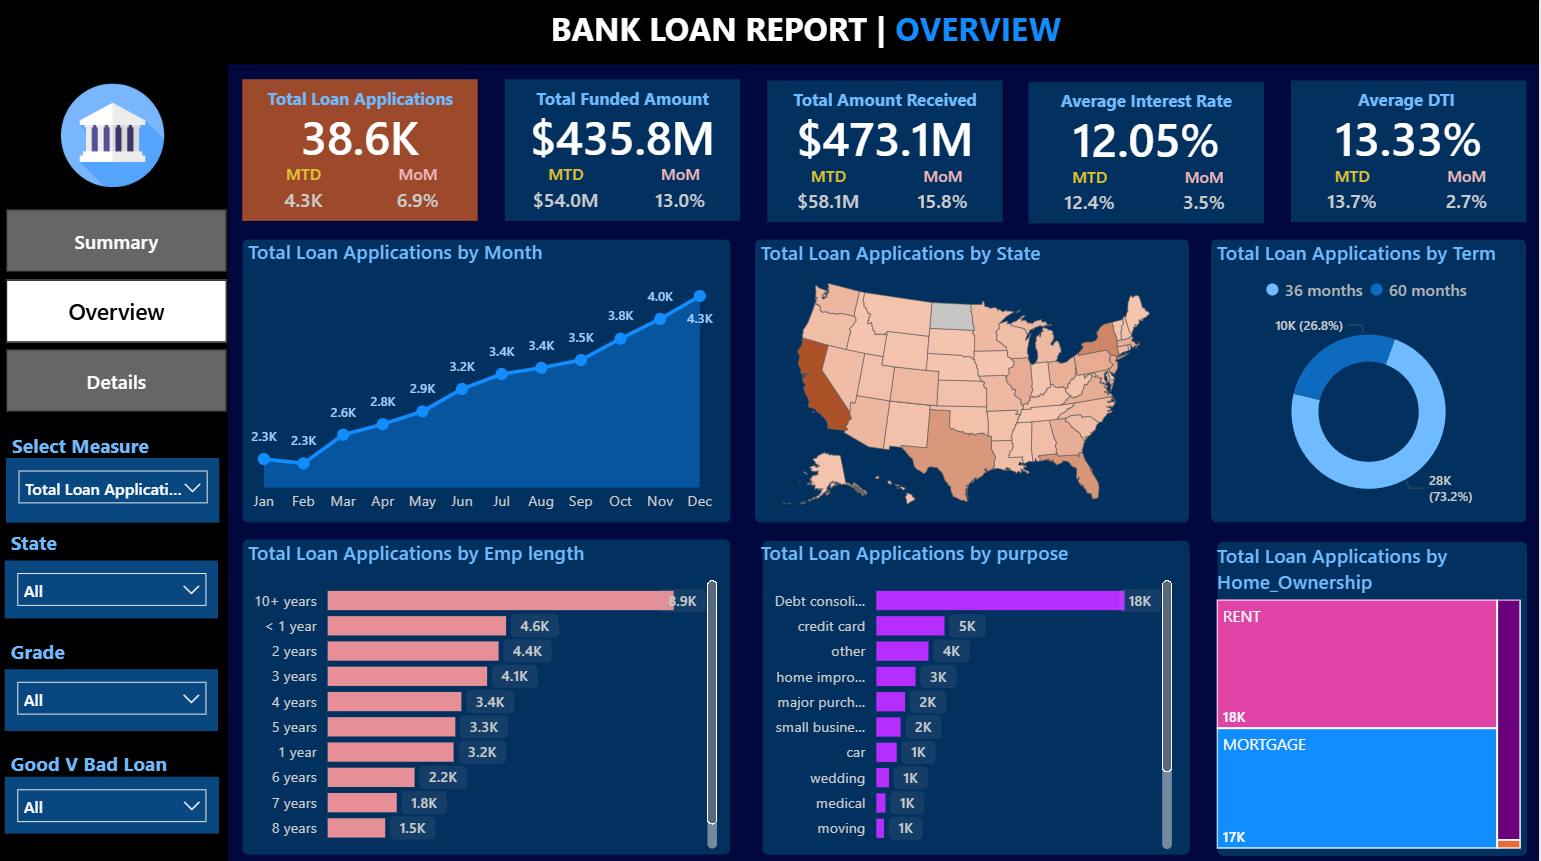

What the dashboard file says about the page in this screenshot:
{"tool":"powerbi","page":{"name":"Overview","canvas":[1280,720],"ordinal":1},"visuals":[{"type":"shape","box":[0,0,1280.3,55],"z":0},{"type":"shape","box":[204.7,67.4,195.3,117.4],"z":0,"group":"g2"},{"type":"shape","box":[422,67.4,195.3,117.4],"z":0,"group":"g3"},{"type":"shape","box":[639.3,68.2,195.3,117.4],"z":0,"group":"g4"},{"type":"shape","box":[1073.3,68.2,195.3,117.4],"z":0,"group":"g6"},{"type":"shape","box":[856.3,69.4,195.3,117.4],"z":0,"group":"g5"},{"type":"card","fields":{"Values":["bank_loan_data.Total Loan Applications"]},"box":[204.7,91.8,195.3,45.3],"z":1000,"group":"g2"},{"type":"card","fields":{"Values":["bank_loan_data.Total Funded Amount"]},"box":[422,91.8,195.3,45.3],"z":1000,"group":"g3"},{"type":"card","fields":{"Values":["bank_loan_data.Total Received Amount"]},"box":[639.3,92.6,195.3,45.3],"z":1000,"group":"g4"},{"type":"card","fields":{"Values":["bank_loan_data.Average DTI Rate"]},"box":[1073.3,92.6,195.3,45.3],"z":1000,"group":"g6"},{"type":"card","fields":{"Values":["bank_loan_data.Avg Interest Rate"]},"box":[856.3,93.8,195.3,45.3],"z":1000,"group":"g5"},{"type":"group","id":"g1","title":"Group 2","box":[204.3,199.9,405,235],"z":1000},{"type":"shape","box":[0,54.9,192,665.5],"z":2000,"group":"g12"},{"type":"textbox","box":[204.7,68.6,195.3,32.6],"z":2000,"group":"g2"},{"type":"textbox","box":[422,68.6,195.3,32.6],"z":2000,"group":"g3"},{"type":"textbox","box":[639.3,69.4,195.3,32.6],"z":2000,"group":"g4"},{"type":"textbox","box":[1073.3,69.4,195.3,32.6],"z":2000,"group":"g6"},{"type":"textbox","box":[856.3,70.6,195.3,32.6],"z":2000,"group":"g5"},{"type":"textbox","box":[454.7,2.3,444.2,52.3],"z":3000},{"type":"card","title":"MTD","fields":{"Values":["bank_loan_data.MTD Loan Applications"]},"box":[221,137.2,68.6,47.7],"z":3000,"group":"g2"},{"type":"card","title":"MTD","fields":{"Values":["bank_loan_data.MTD Total Funded Amount"]},"box":[438.3,137.2,68.6,47.7],"z":3000,"group":"g3"},{"type":"card","title":"MTD","fields":{"Values":["bank_loan_data.MTD Received Amount"]},"box":[655.6,138,68.6,47.7],"z":3000,"group":"g4"},{"type":"card","title":"MTD","fields":{"Values":["bank_loan_data.MTD DTI Rate"]},"box":[1089.6,138,68.6,47.7],"z":3000,"group":"g6"},{"type":"card","title":"MTD","fields":{"Values":["bank_loan_data.MTD Interest Rate"]},"box":[872.6,139.2,68.6,47.7],"z":3000,"group":"g5"},{"type":"shape","box":[204.3,199.9,405,235],"z":3000,"group":"g1"},{"type":"shape","box":[629.1,200,360,235],"z":3000,"group":"g7"},{"type":"shape","box":[1007,200,261.6,234.9],"z":3000,"group":"g8"},{"type":"shape","box":[204.7,448.8,404.7,261.6],"z":3000,"group":"g9"},{"type":"shape","box":[634.9,450,354.7,260.5],"z":3000,"group":"g10"},{"type":"shape","box":[1012.5,451.4,257,260.5],"z":3000,"group":"g11"},{"type":"group","id":"g2","title":"Group 1","box":[204.7,67.4,195.3,117.4],"z":4000},{"type":"card","title":"MoM","fields":{"Values":["bank_loan_data.MoM Loan Applications"]},"box":[315.2,137.2,69.8,47.7],"z":4000,"group":"g2"},{"type":"card","title":"MoM","fields":{"Values":["bank_loan_data.MoM Funded Amount"]},"box":[532.5,137.2,69.8,47.7],"z":4000,"group":"g3"},{"type":"card","title":"MoM","fields":{"Values":["bank_loan_data.MoM Received Amount"]},"box":[749.8,138,69.8,47.7],"z":4000,"group":"g4"},{"type":"card","title":"MoM","fields":{"Values":["bank_loan_data.MoM DTI Rate"]},"box":[1183.8,138,69.8,47.7],"z":4000,"group":"g6"},{"type":"card","title":"MoM","fields":{"Values":["bank_loan_data.MoM Interest Rate"]},"box":[966.8,139.2,69.8,47.7],"z":4000,"group":"g5"},{"type":"group","id":"g3","title":"Group 1","box":[422,67.4,195.3,117.4],"z":5000},{"type":"group","id":"g4","title":"Group 1","box":[639.3,68.2,195,117.3],"z":6000},{"type":"group","id":"g5","title":"Group 1","box":[856.3,69.4,195,117.3],"z":7000},{"type":"group","id":"g6","title":"Group 1","box":[1073.3,68.2,195,117.3],"z":8000},{"type":"slicer","title":"State","fields":{"Values":["bank_loan_data.address_state"]},"box":[7.5,466.8,177.1,47.9],"z":9000,"group":"g12"},{"type":"textbox","box":[7,435.6,89.3,31.3],"z":10000,"group":"g12"},{"type":"slicer","title":"State","fields":{"Values":["bank_loan_data.grade"]},"box":[7.5,556.6,177.1,51.4],"z":11000,"group":"g12"},{"type":"textbox","box":[7,524.9,89.3,31.3],"z":12000,"group":"g12"},{"type":"slicer","title":"State","fields":{"Values":["bank_loan_data.Good Vs Bad Loan "]},"box":[7,645.5,177.5,46.9],"z":13000,"group":"g12"},{"type":"textbox","box":[7.3,618.7,145.1,38.3],"z":14000,"group":"g12"},{"type":"areaChart","fields":{"Category":["Date Table.Month"],"Y":["bank_loan_data.Total Loan Applications"]},"box":[204.7,198.8,397.7,236],"z":15000},{"type":"slicer","fields":{"Values":["Select Measure.Select Measure"]},"box":[8.7,381.9,177.1,53.8],"z":16000,"group":"g12"},{"type":"textbox","box":[8.7,354.4,161.5,35.9],"z":17000,"group":"g12"},{"type":"group","id":"g7","title":"Group 2","box":[629.1,200,360.5,234.9],"z":17001},{"type":"shapeMap","fields":{"Category":["bank_loan_data.address_state"],"Value":["bank_loan_data.Total Loan Applications"]},"box":[629.1,200,351.2,234.9],"z":17002},{"type":"group","id":"g8","title":"Group 2","box":[1007,200,261.6,234.9],"z":17003},{"type":"donutChart","fields":{"Category":["bank_loan_data.term"],"Y":["bank_loan_data.Total Loan Applications"]},"box":[1007,200,261.6,234.9],"z":17004},{"type":"group","id":"g9","title":"Group 2","box":[204.7,448.8,404.7,261.6],"z":17005},{"type":"barChart","fields":{"Category":["bank_loan_data.emp_length"],"Y":["bank_loan_data.Total Loan Applications"]},"box":[204.7,448.8,398.8,261.6],"z":17006},{"type":"group","id":"g10","title":"Group 2","box":[634.9,450,354.7,260.5],"z":17007},{"type":"barChart","fields":{"Category":["bank_loan_data.purpose"],"Y":["bank_loan_data.Total Loan Applications"]},"box":[629,449,351,262],"z":17008},{"type":"group","id":"g11","title":"Group 2","box":[1007,451,262.4,260.8],"z":17009},{"type":"pageNavigator","box":[8.1,175.6,183.7,170.9],"z":17010,"group":"g12"},{"type":"treemap","fields":{"Group":["bank_loan_data.home_ownership"],"Values":["bank_loan_data.Total Loan Applications"]},"box":[1007,451,261.6,259.3],"z":17010,"group":"g11"},{"type":"image","box":[1.2,66.3,191.9,95.3],"z":17011,"group":"g12"},{"type":"group","id":"g12","title":"Group 3","box":[0,54.9,193,665.5],"z":17012}]}

Visuals, with their boxes in screenshot pixels (x1, y1, x2, y2), scaled from the page's 1280x720 canvas onto the 1541x861 screenshot:
shape: [0, 0, 1540, 66]
shape: [246, 81, 482, 221]
shape: [508, 81, 743, 221]
shape: [770, 82, 1005, 222]
shape: [1292, 82, 1527, 222]
shape: [1031, 83, 1266, 223]
card - bank_loan_data.Total Loan Applications: [246, 110, 482, 164]
card - bank_loan_data.Total Funded Amount: [508, 110, 743, 164]
card - bank_loan_data.Total Received Amount: [770, 111, 1005, 165]
card - bank_loan_data.Average DTI Rate: [1292, 111, 1527, 165]
card - bank_loan_data.Avg Interest Rate: [1031, 112, 1266, 166]
"Group 2" group: [246, 239, 734, 520]
shape: [0, 66, 231, 860]
textbox: [246, 82, 482, 121]
textbox: [508, 82, 743, 121]
textbox: [770, 83, 1005, 122]
textbox: [1292, 83, 1527, 122]
textbox: [1031, 84, 1266, 123]
textbox: [547, 3, 1082, 65]
"MTD" card: [266, 164, 349, 221]
"MTD" card: [528, 164, 610, 221]
"MTD" card: [789, 165, 872, 222]
"MTD" card: [1312, 165, 1394, 222]
"MTD" card: [1051, 166, 1133, 224]
shape: [246, 239, 734, 520]
shape: [757, 239, 1191, 520]
shape: [1212, 239, 1527, 520]
shape: [246, 537, 734, 850]
shape: [764, 538, 1191, 850]
shape: [1219, 540, 1528, 851]
"Group 1" group: [246, 81, 482, 221]
"MoM" card: [379, 164, 464, 221]
"MoM" card: [641, 164, 725, 221]
"MoM" card: [903, 165, 987, 222]
"MoM" card: [1425, 165, 1509, 222]
"MoM" card: [1164, 166, 1248, 224]
"Group 1" group: [508, 81, 743, 221]
"Group 1" group: [770, 82, 1004, 222]
"Group 1" group: [1031, 83, 1266, 223]
"Group 1" group: [1292, 82, 1527, 222]
"State" slicer: [9, 558, 222, 615]
textbox: [8, 521, 116, 558]
"State" slicer: [9, 666, 222, 727]
textbox: [8, 628, 116, 665]
"State" slicer: [8, 772, 222, 828]
textbox: [9, 740, 183, 786]
areaChart - Date Table.Month x bank_loan_data.Total Loan Applications: [246, 238, 725, 520]
slicer - Select Measure.Select Measure: [10, 457, 224, 521]
textbox: [10, 424, 205, 467]
"Group 2" group: [757, 239, 1191, 520]
shapeMap - bank_loan_data.address_state x bank_loan_data.Total Loan Applications: [757, 239, 1180, 520]
"Group 2" group: [1212, 239, 1527, 520]
donutChart - bank_loan_data.term x bank_loan_data.Total Loan Applications: [1212, 239, 1527, 520]
"Group 2" group: [246, 537, 734, 850]
barChart - bank_loan_data.emp_length x bank_loan_data.Total Loan Applications: [246, 537, 727, 850]
"Group 2" group: [764, 538, 1191, 850]
barChart - bank_loan_data.purpose x bank_loan_data.Total Loan Applications: [757, 537, 1180, 850]
"Group 2" group: [1212, 539, 1528, 851]
pageNavigator: [10, 210, 231, 414]
treemap - bank_loan_data.home_ownership x bank_loan_data.Total Loan Applications: [1212, 539, 1527, 849]
image: [1, 79, 232, 193]
"Group 3" group: [0, 66, 232, 860]
